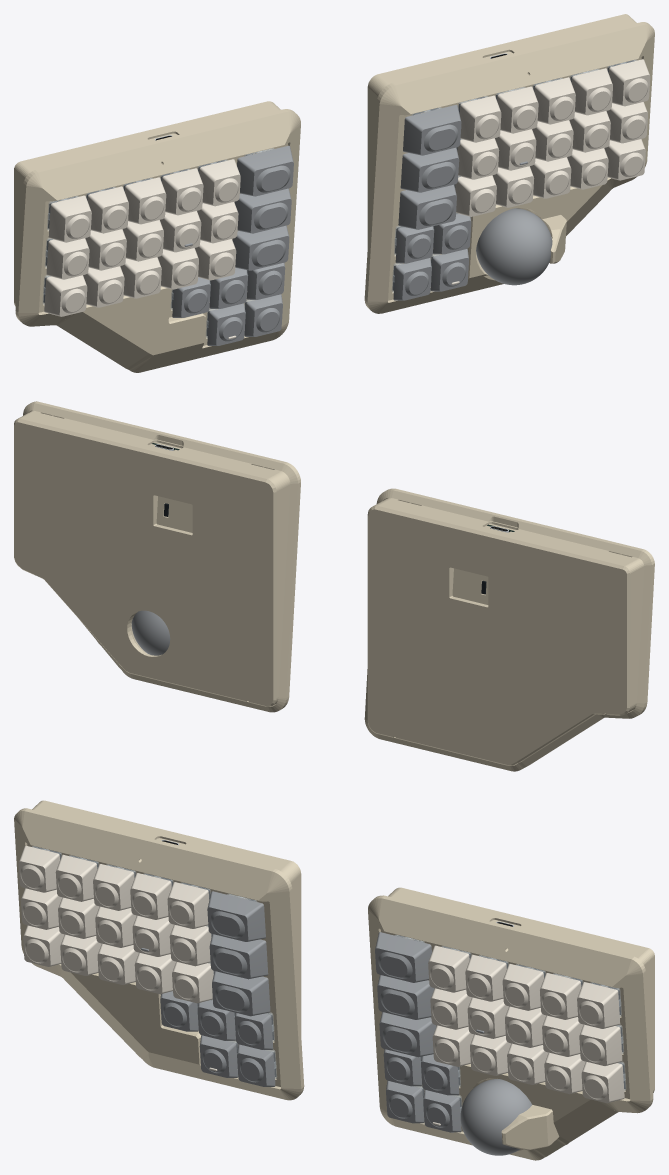
Rendered from Surround1x0-AKDK-White.glb.
3 renders of one model, top to bottom at view 1: azimuth 30°, elevation 25°; view 2: azimuth 150°, elevation 25°; view 3: azimuth 330°, elevation 25°, orthographic.
Visible parts, largest first — view 1: Left_Top_Case, Right_Top_Case, Right_Trackball_34mm, Right_Bottom_Case, Left_Bottom_Case, Right_Keycap_07_SPACE, Left_Keycap_06_DEL, Right_Keycap_31_ENT, Right_Keycap_19_▶, Left_Keycap_30_TAB, Left_Keycap_18_◀, Left_Keycap_01_Q (+38 smaller); view 2: Left_Bottom_Case, Right_Bottom_Case, Right_Top_Case, Left_Top_Case, Right_Trackball_34mm; view 3: Left_Top_Case, Right_Top_Case, Left_Bottom_Case, Right_Bottom_Case, Right_Trackball_34mm, Left_Keycap_06_DEL, Right_Keycap_07_SPACE, Left_Keycap_18_◀, Left_Keycap_30_TAB, Right_Keycap_19_▶, Right_Keycap_31_ENT, Right_Keycap_12_P (+38 smaller).
Boxes of the visible parts, left/top/right/bottom form: Left_Top_Case: left=15, top=109, right=300, bottom=372; Right_Top_Case: left=364, top=22, right=654, bottom=313; Right_Trackball_34mm: left=476, top=208, right=552, bottom=285; Right_Bottom_Case: left=367, top=14, right=636, bottom=246; Left_Bottom_Case: left=14, top=101, right=280, bottom=306; Right_Keycap_07_SPACE: left=403, top=104, right=461, bottom=155; Left_Keycap_06_DEL: left=237, top=145, right=293, bottom=196; Right_Keycap_31_ENT: left=398, top=184, right=456, bottom=229; Right_Keycap_19_▶: left=400, top=147, right=459, bottom=192; Left_Keycap_30_TAB: left=232, top=225, right=289, bottom=270; Left_Keycap_18_◀: left=234, top=188, right=291, bottom=233; Left_Keycap_01_Q: left=48, top=195, right=91, bottom=242; Left_Bottom_Case: left=367, top=497, right=644, bottom=765; Right_Bottom_Case: left=14, top=410, right=290, bottom=706; Right_Top_Case: left=23, top=401, right=300, bottom=712; Left_Top_Case: left=364, top=488, right=654, bottom=771; Right_Trackball_34mm: left=131, top=610, right=170, bottom=655; Left_Top_Case: left=14, top=808, right=304, bottom=1100; Right_Top_Case: left=368, top=895, right=653, bottom=1160; Left_Bottom_Case: left=32, top=800, right=301, bottom=1034; Right_Bottom_Case: left=388, top=887, right=654, bottom=1092; Right_Trackball_34mm: left=460, top=1079, right=531, bottom=1155; Left_Keycap_06_DEL: left=207, top=891, right=265, bottom=941; Right_Keycap_07_SPACE: left=375, top=932, right=431, bottom=982; Left_Keycap_18_◀: left=209, top=934, right=268, bottom=979; Left_Keycap_30_TAB: left=212, top=971, right=270, bottom=1016; Right_Keycap_19_▶: left=377, top=975, right=434, bottom=1019; Right_Keycap_31_ENT: left=379, top=1012, right=436, bottom=1057; Right_Keycap_12_P: left=577, top=982, right=620, bottom=1028.
Bounding box in the file's own units: 321 × 117 × 35.77.
